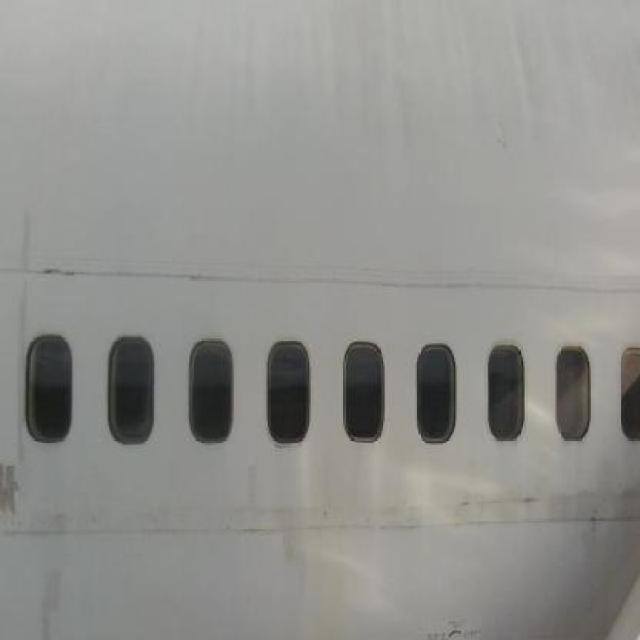Scartch: (1, 451, 28, 524)
